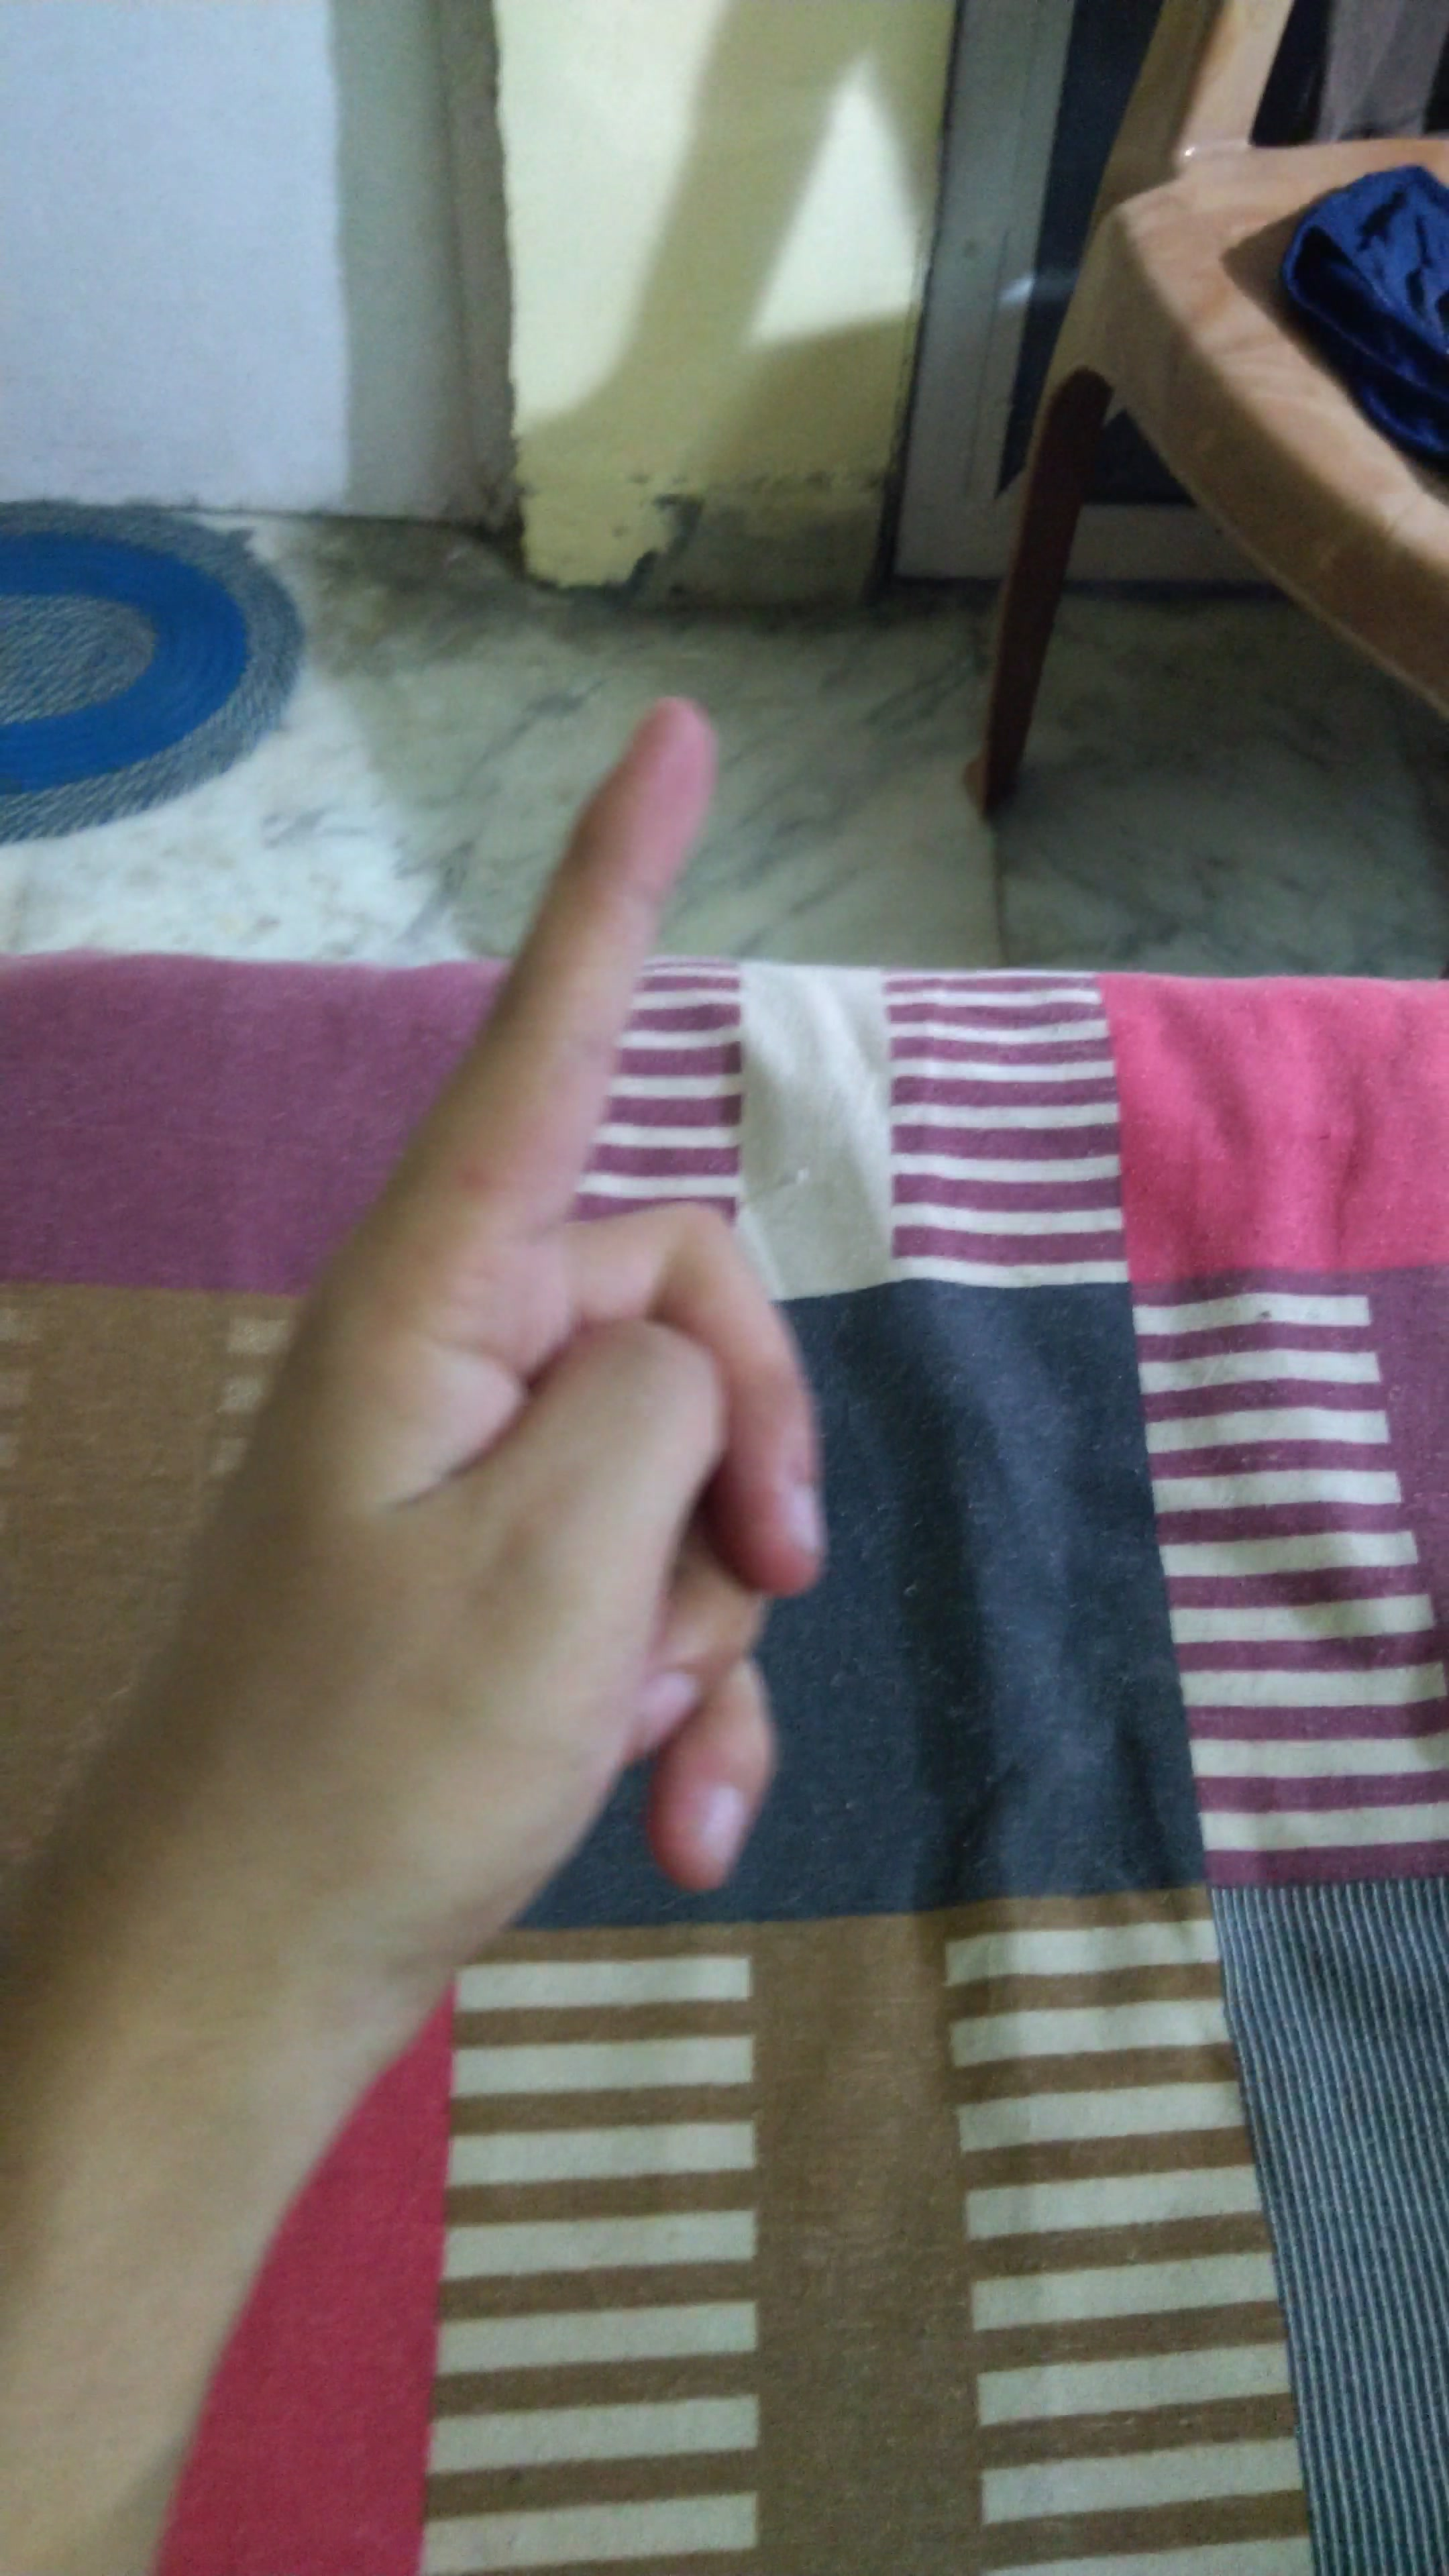hand: (127, 662, 971, 2024)
